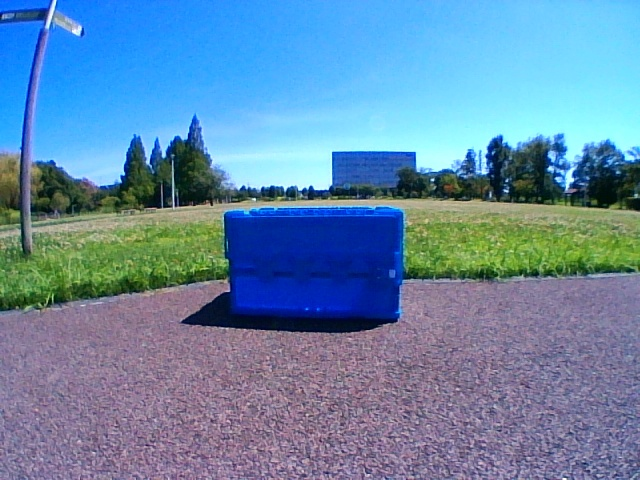blue_box: (225, 206, 402, 322)
